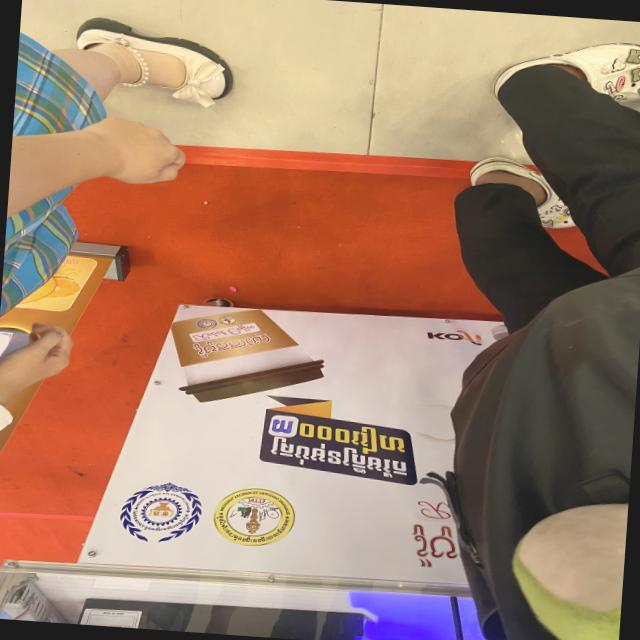1: (125, 507, 194, 534)
Yolov11_80vkh: (264, 433, 411, 483), (263, 413, 409, 459), (208, 507, 294, 548), (396, 520, 462, 571), (186, 328, 275, 361)
